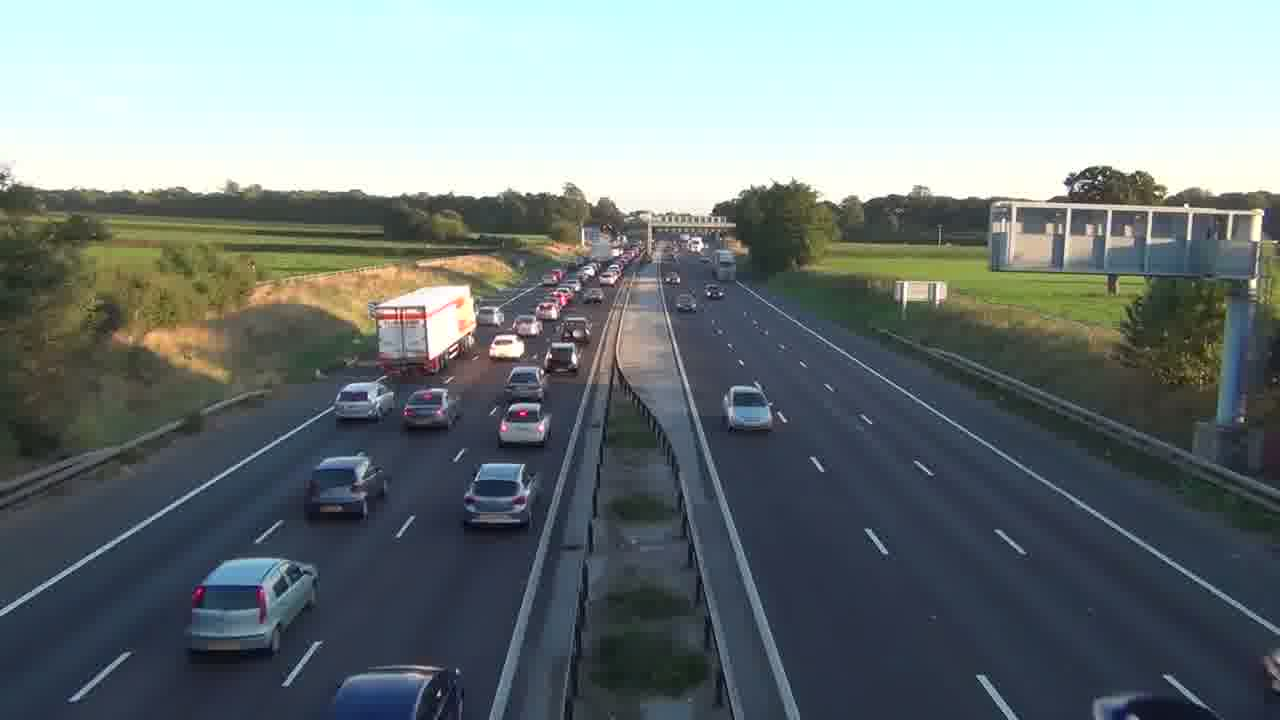car: (185, 556, 320, 656), (332, 664, 466, 718), (462, 462, 536, 529), (722, 384, 773, 432), (400, 388, 458, 430), (497, 402, 551, 447), (334, 381, 387, 422), (504, 366, 545, 403), (544, 343, 580, 374), (705, 282, 724, 299)
truck: (368, 283, 476, 379), (303, 453, 389, 520)
